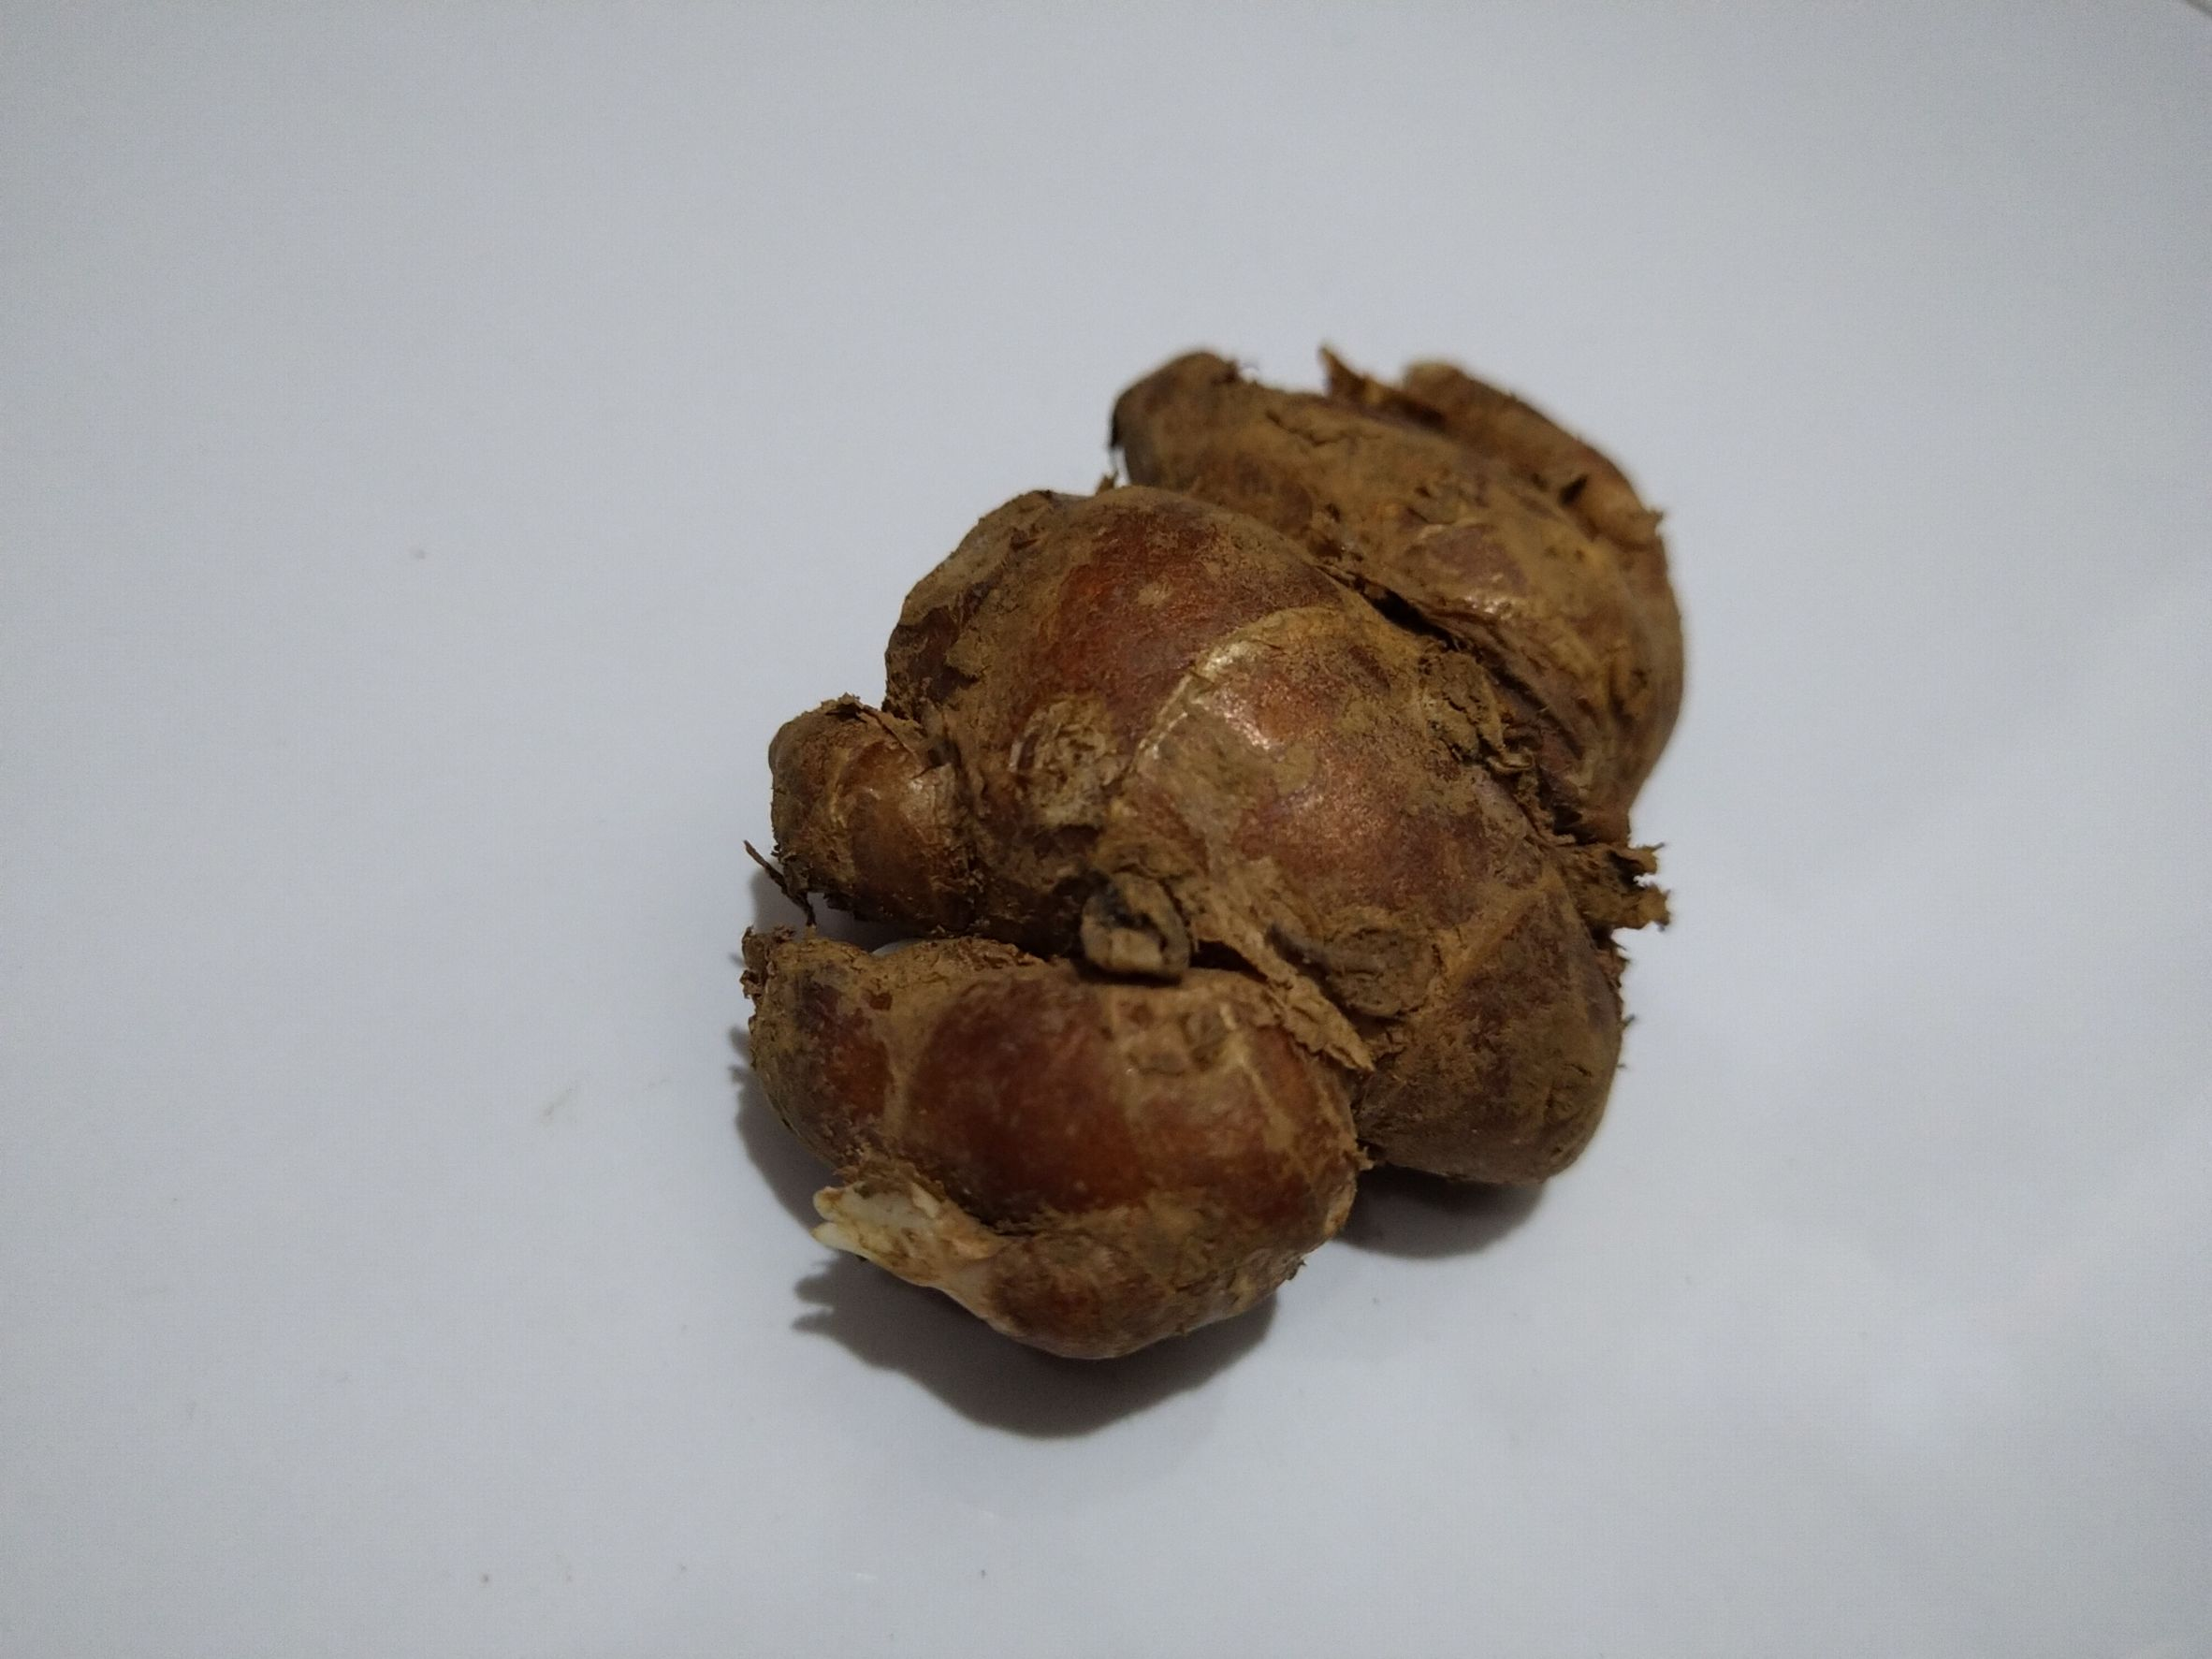Kencur: (723, 361, 1683, 1364)
